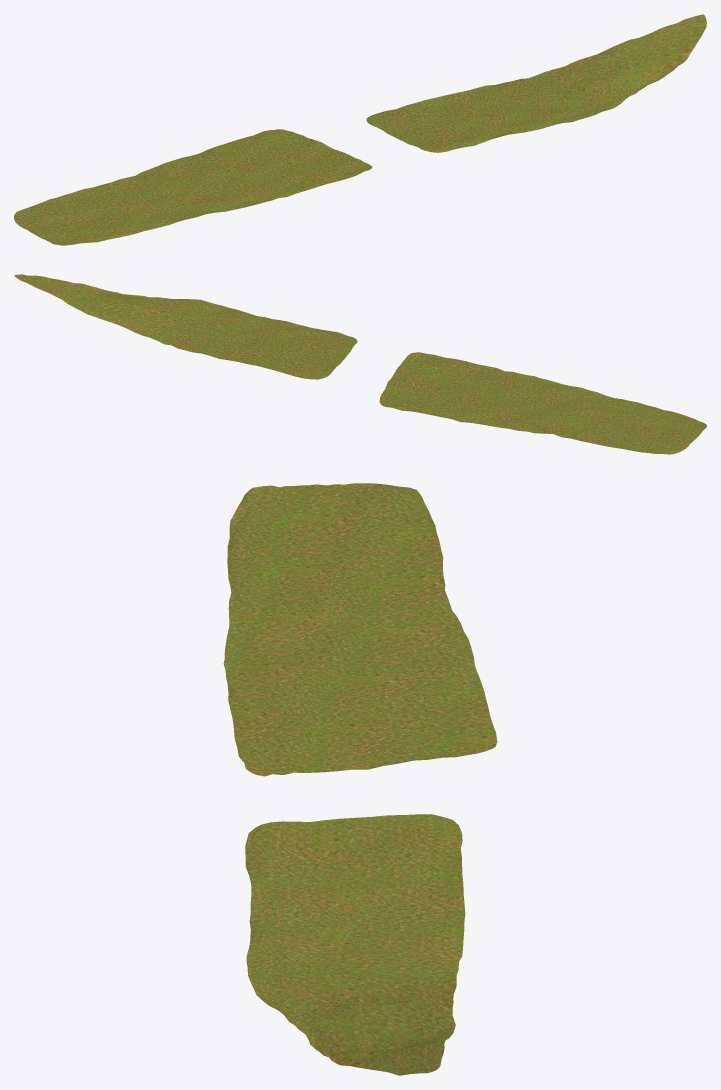
Rendered from Grass Spawning Mesh.fbx.
The picture shows the model from 3 angles, top to bottom: view 1: azimuth 30°, elevation 25°; view 2: azimuth 150°, elevation 25°; view 3: azimuth 270°, elevation 25°; orthographic projection. The views are drawn at different scales.
Visible parts, largest first — view 1: Plane; view 2: Plane; view 3: Plane.
Boxes of the visible parts, box(x1,y1,x2,y2) form: Plane: box(14, 14, 706, 245); Plane: box(14, 274, 706, 454); Plane: box(223, 483, 497, 1075).
Bounding box in the file's own units: 83.74 × 3.21 × 15.15.
